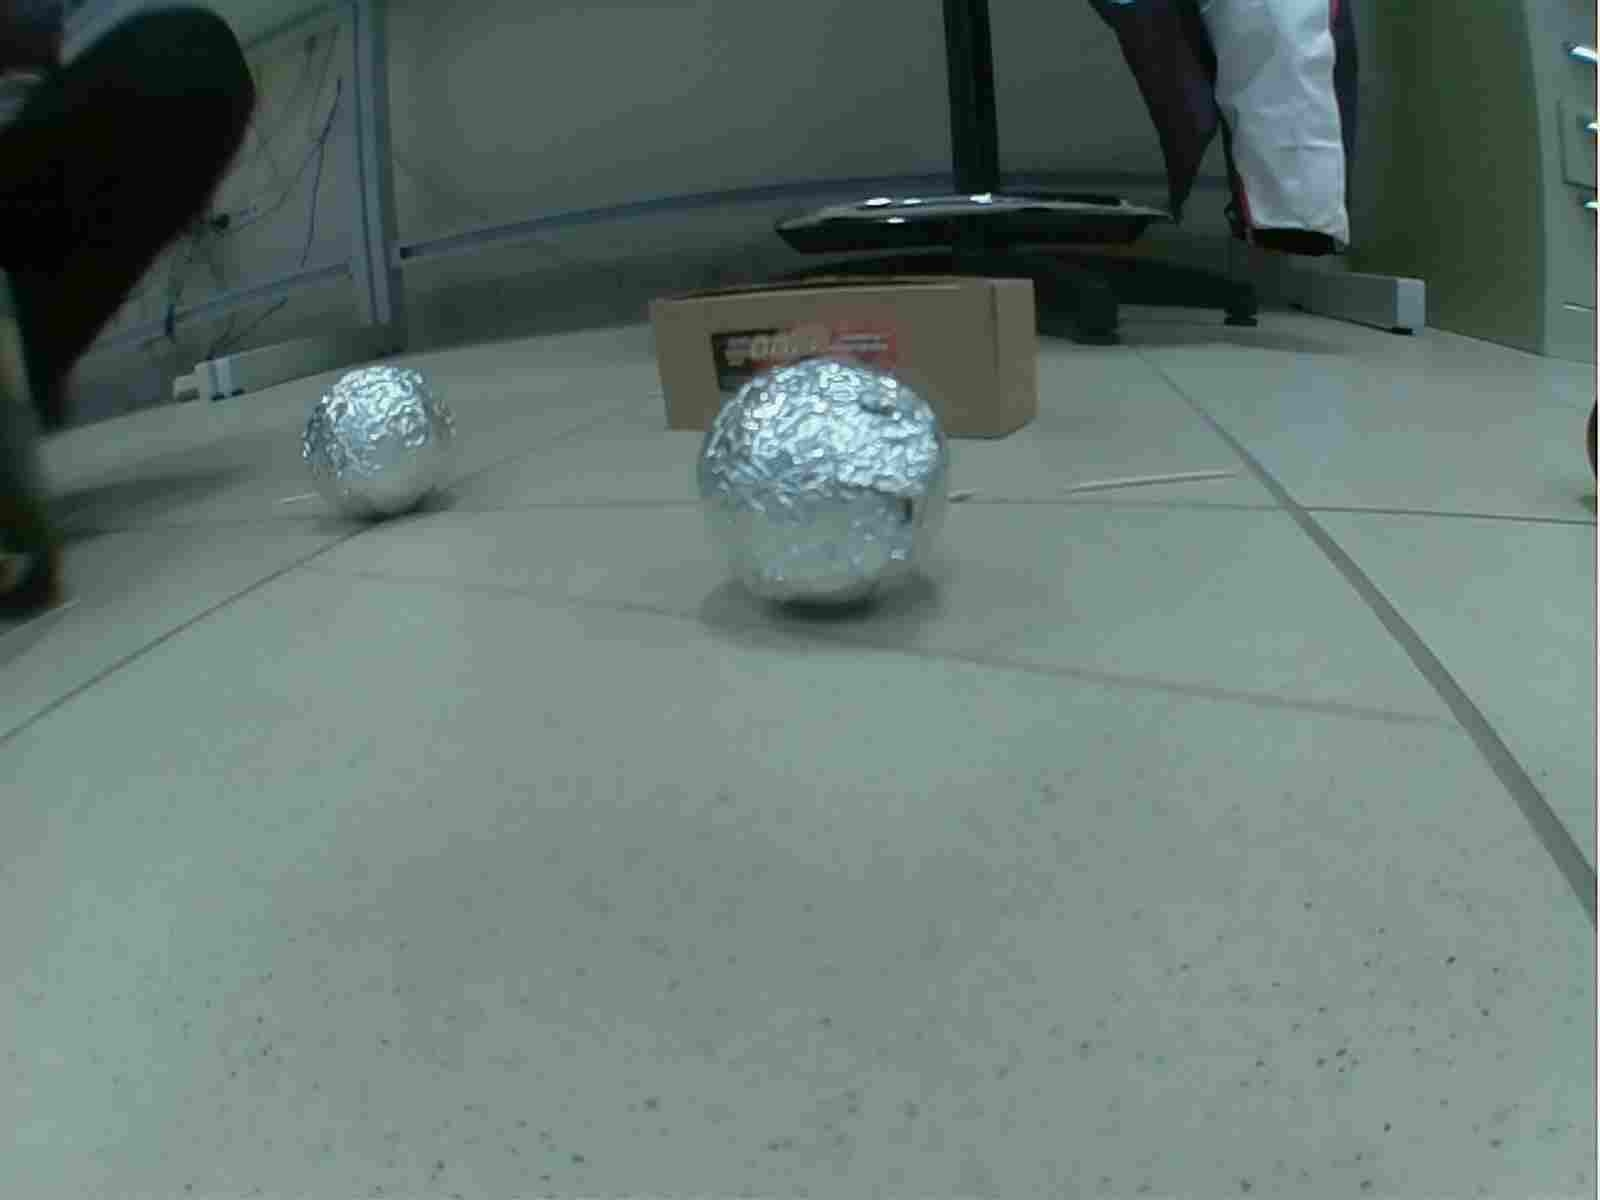bianca: (694, 355, 961, 610), (302, 364, 459, 523)
